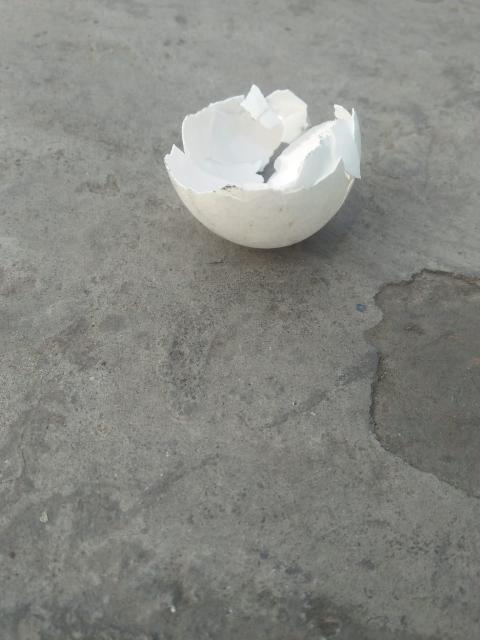Roto: (163, 83, 362, 250)
